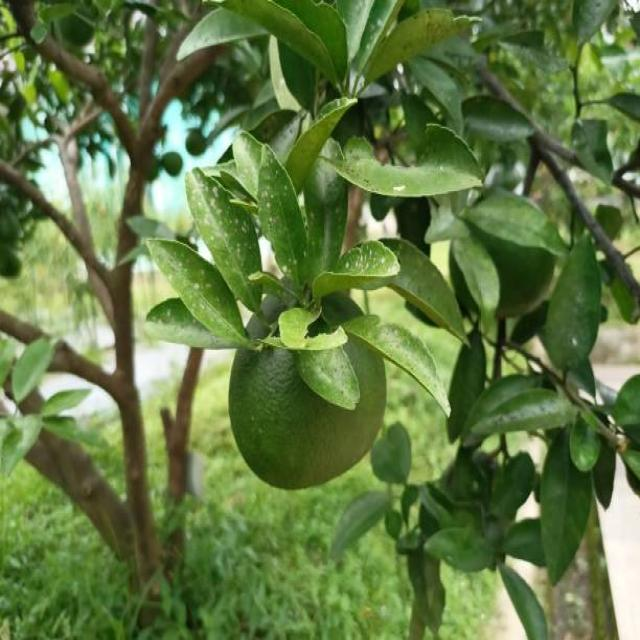Unripe: (226, 276, 386, 488)
